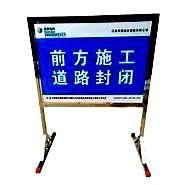sign: (40, 23, 147, 102)
